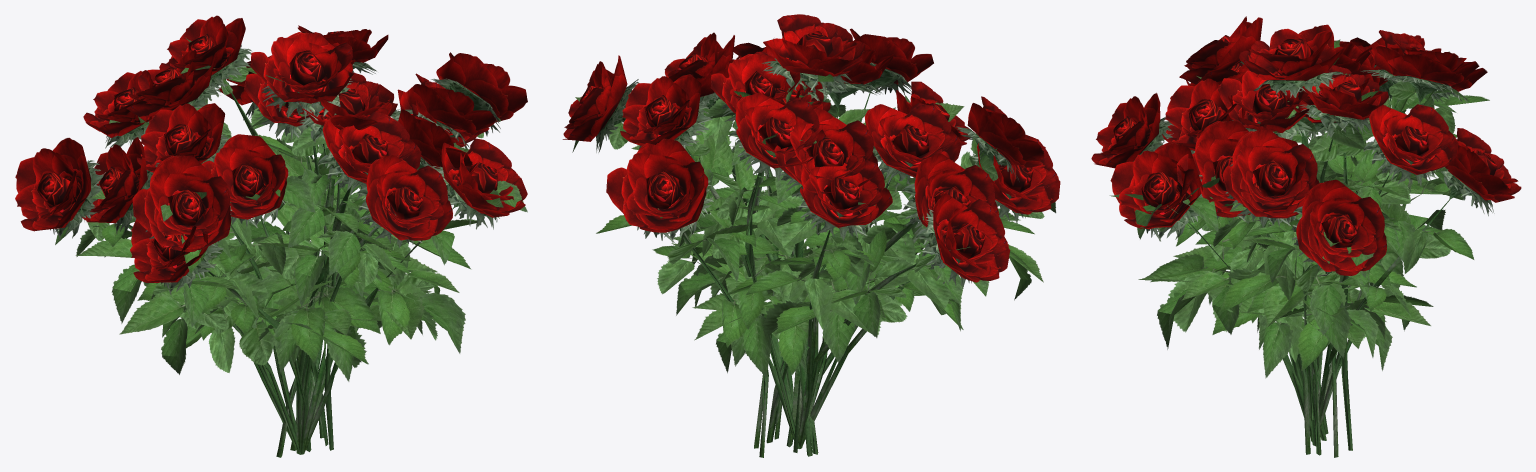
Rendered from rose.glb.
3 views of the same model, side by side, from view 1: azimuth 30°, elevation 25°; view 2: azimuth 150°, elevation 25°; view 3: azimuth 270°, elevation 25° (orthographic). The views are drawn at different scales.
Parts seen in each view (by area): view 1: RedRose_02; view 2: RedRose_02; view 3: RedRose_02.
Boxes of the visible parts, x1,y1,x2,y2 form: RedRose_02: [15, 15, 527, 457]; RedRose_02: [562, 14, 1060, 457]; RedRose_02: [1091, 16, 1521, 457].
Size of the model in its own units: 0.6149 by 0.5229 by 0.5084.
Materials: 3 (3 with a texture image).
